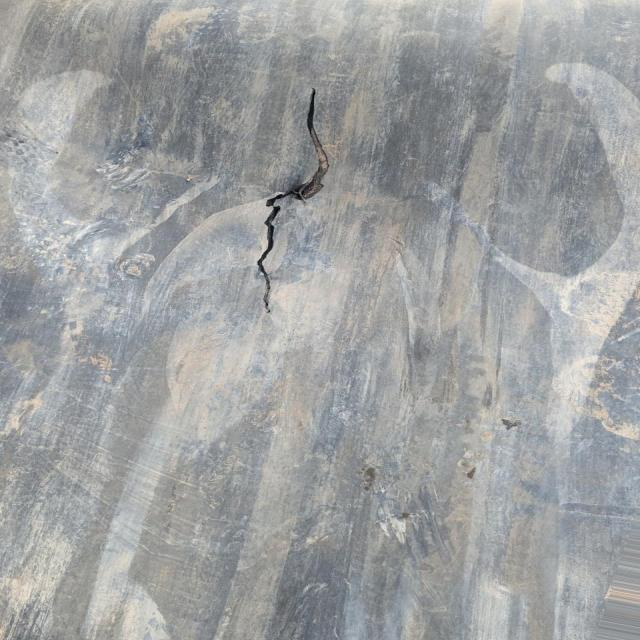Tear: (251, 84, 334, 318)
